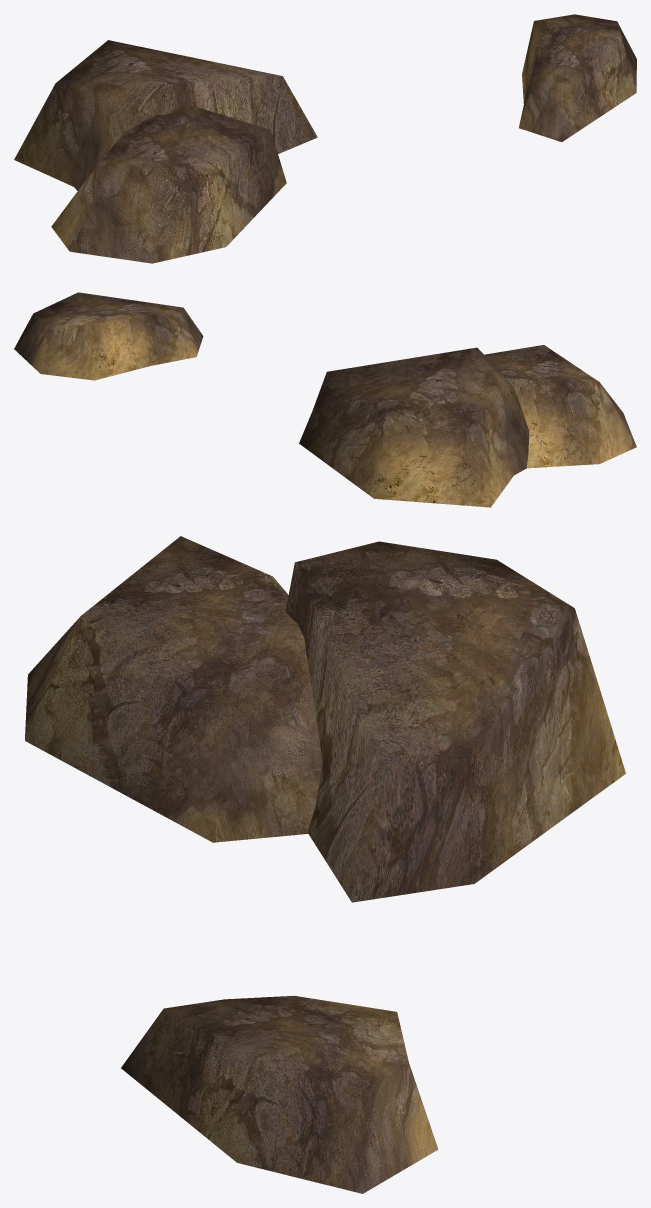
File: S_Rock_Yellow017.FBX
3 renders of one model, top to bottom at view 1: azimuth 30°, elevation 25°; view 2: azimuth 150°, elevation 25°; view 3: azimuth 270°, elevation 25°, orthographic. The views are drawn at different scales.
Parts seen in each view (by area): view 1: S_Rock_Yellow017; view 2: S_Rock_Yellow017; view 3: S_Rock_Yellow017.
Part boxes in pixels (<box>): S_Rock_Yellow017: <box>14,14,636,263</box>; S_Rock_Yellow017: <box>14,292,636,507</box>; S_Rock_Yellow017: <box>25,536,625,1193</box>.
Bounding box in the file's own units: 227 × 104 × 37.25.
